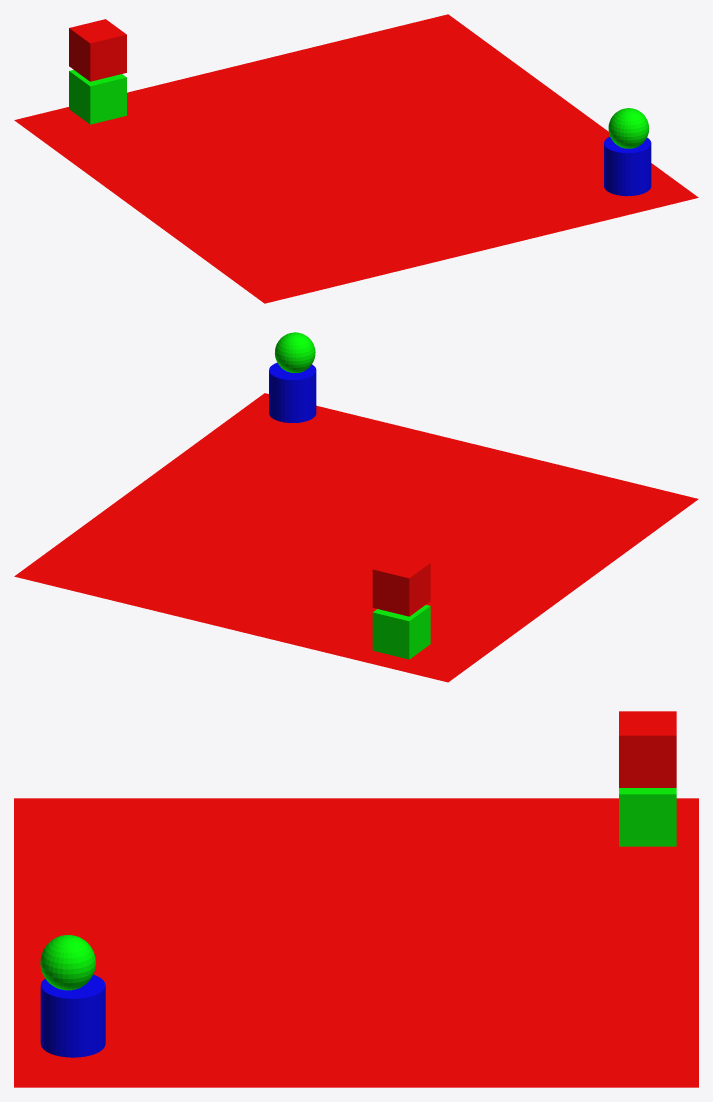
The model's file is blend-test.glb.
3 renders of one model, top to bottom at view 1: azimuth 30°, elevation 25°; view 2: azimuth 150°, elevation 25°; view 3: azimuth 270°, elevation 25°, orthographic. The views are drawn at different scales.
Visible parts, largest first — view 1: Plane, obj-1, obj-2; view 2: Plane, obj-1, obj-2; view 3: Plane, obj-1, obj-2.
Boxes of the visible parts, x1=… form: Plane: x1=14, y1=14, x2=698, y2=303; obj-1: x1=69, y1=19, x2=126, y2=124; obj-2: x1=604, y1=108, x2=651, y2=196; Plane: x1=14, y1=393, x2=698, y2=682; obj-1: x1=372, y1=554, x2=430, y2=659; obj-2: x1=269, y1=332, x2=316, y2=422; Plane: x1=14, y1=798, x2=698, y2=1087; obj-1: x1=619, y1=711, x2=676, y2=846; obj-2: x1=40, y1=935, x2=105, y2=1057.
Bounding box in the file's own units: 10 × 1.91 × 10.
